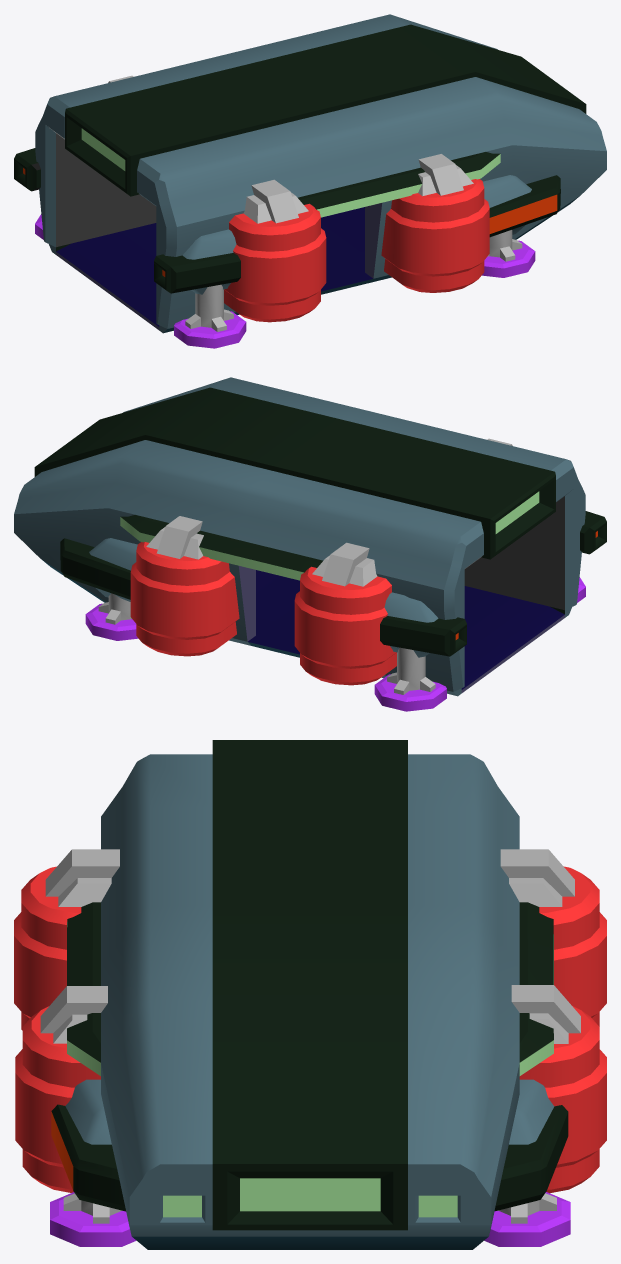
Rendered from DropShip_Export2.fbx.
3 renders of one model, top to bottom at view 1: azimuth 30°, elevation 25°; view 2: azimuth 150°, elevation 25°; view 3: azimuth 270°, elevation 25°, orthographic. The views are drawn at different scales.
Parts seen in each view (by area): view 1: Ship_Hull, Front_Right_Engine, Bacl_Left_Engine, Back_Right_Wing, Right_Wing, Front_Right_Wing, Back_Right_Connector, Front_Right_connector, Back_Right_Foot, Back_Right_Leg, Front_Right_Foot, Back_Left_Wing (+1 smaller); view 2: Ship_Hull, Front_Left_Engine, Back_Left_Engine, Back_Left_Wing, Left_Wing, Front_Left_Wing, Back_Left_Connector, Front_left_connector, BAck_Left_Foot, Back_Left_Leg, Front_Left_Foot, Back_Right_Wing (+1 smaller); view 3: Ship_Hull, Front_Left_Engine, Front_Right_Engine, Bacl_Left_Engine, Back_Left_Engine, Front_Right_Wing, Front_Left_Wing, Left_Wing, Right_Wing, Back_Left_Connector, Back_Right_Connector, Front_Left_Foot (+5 smaller).
Boxes of the visible parts, x1=… form: Ship_Hull: x1=35, y1=14, x2=606, y2=333; Front_Right_Engine: x1=381, y1=179, x2=489, y2=292; Bacl_Left_Engine: x1=224, y1=203, x2=326, y2=322; Back_Right_Wing: x1=154, y1=229, x2=240, y2=294; Right_Wing: x1=298, y1=152, x2=500, y2=217; Front_Right_Wing: x1=483, y1=175, x2=560, y2=237; Back_Right_Connector: x1=243, y1=179, x2=308, y2=223; Front_Right_connector: x1=418, y1=154, x2=473, y2=196; Back_Right_Foot: x1=174, y1=311, x2=246, y2=348; Back_Right_Leg: x1=185, y1=284, x2=233, y2=331; Front_Right_Foot: x1=482, y1=240, x2=535, y2=277; Back_Left_Wing: x1=14, y1=148, x2=40, y2=191; Ship_Hull: x1=14, y1=377, x2=585, y2=696; Front_Left_Engine: x1=130, y1=542, x2=239, y2=656; Back_Left_Engine: x1=294, y1=566, x2=396, y2=685; Back_Left_Wing: x1=380, y1=592, x2=466, y2=657; Left_Wing: x1=120, y1=515, x2=322, y2=580; Front_Left_Wing: x1=60, y1=538, x2=137, y2=601; Back_Left_Connector: x1=312, y1=542, x2=377, y2=586; Front_left_connector: x1=146, y1=516, x2=203, y2=559; BAck_Left_Foot: x1=374, y1=674, x2=446, y2=711; Back_Left_Leg: x1=387, y1=647, x2=435, y2=694; Front_Left_Foot: x1=85, y1=603, x2=138, y2=640; Back_Right_Wing: x1=580, y1=511, x2=606, y2=554; Ship_Hull: x1=101, y1=740, x2=519, y2=1249; Front_Left_Engine: x1=519, y1=1006, x2=606, y2=1193; Front_Right_Engine: x1=15, y1=1006, x2=100, y2=1192; Bacl_Left_Engine: x1=14, y1=866, x2=81, y2=1030; Back_Left_Engine: x1=539, y1=866, x2=606, y2=1026; Front_Right_Wing: x1=51, y1=1079, x2=126, y2=1211; Front_Left_Wing: x1=494, y1=1079, x2=568, y2=1211; Left_Wing: x1=519, y1=902, x2=553, y2=1075; Right_Wing: x1=67, y1=902, x2=100, y2=1075; Back_Left_Connector: x1=500, y1=849, x2=574, y2=906; Back_Right_Connector: x1=45, y1=849, x2=119, y2=906; Front_Left_Foot: x1=484, y1=1192, x2=570, y2=1246.
Size of the model in its own units: 1654 by 554 by 1215.
